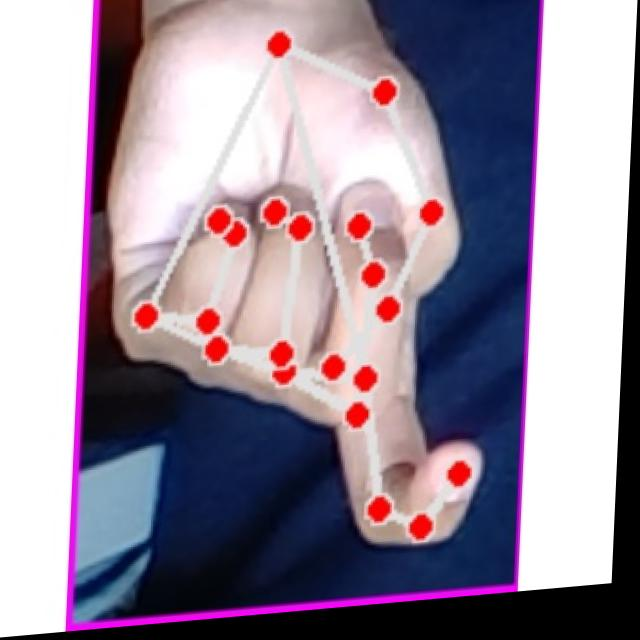Z: (100, 13, 514, 580)
